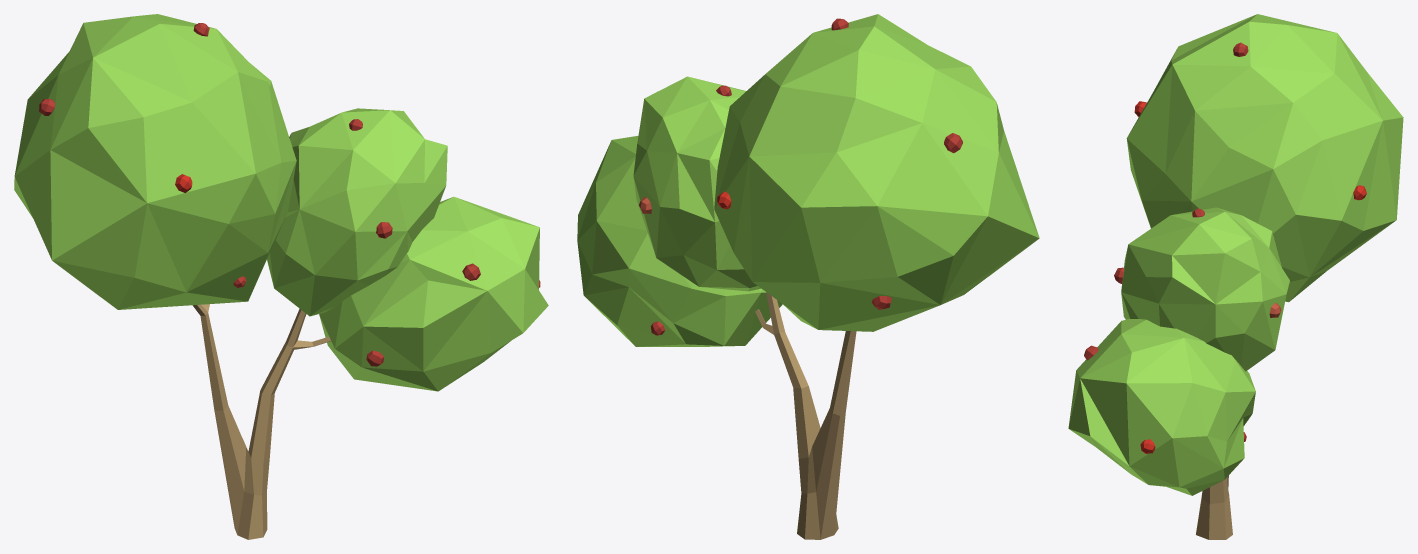
Rendered from Apple_Tree_Apples_m_08_LOD.fbx.
3 renders of one model, left to right at view 1: azimuth 30°, elevation 25°; view 2: azimuth 150°, elevation 25°; view 3: azimuth 270°, elevation 25°, orthographic. The views are drawn at different scales.
Parts seen in each view (by area): view 1: Apple_Tree_Apples_m_08_LOD0; view 2: Apple_Tree_Apples_m_08_LOD0; view 3: Apple_Tree_Apples_m_08_LOD0.
Boxes of the visible parts, left/top/right/bottom form: Apple_Tree_Apples_m_08_LOD0: left=14, top=14, right=548, bottom=539; Apple_Tree_Apples_m_08_LOD0: left=577, top=14, right=1039, bottom=539; Apple_Tree_Apples_m_08_LOD0: left=1068, top=14, right=1403, bottom=539.
Size of what is drawn, in the model's own units: 795 by 846 by 536.
